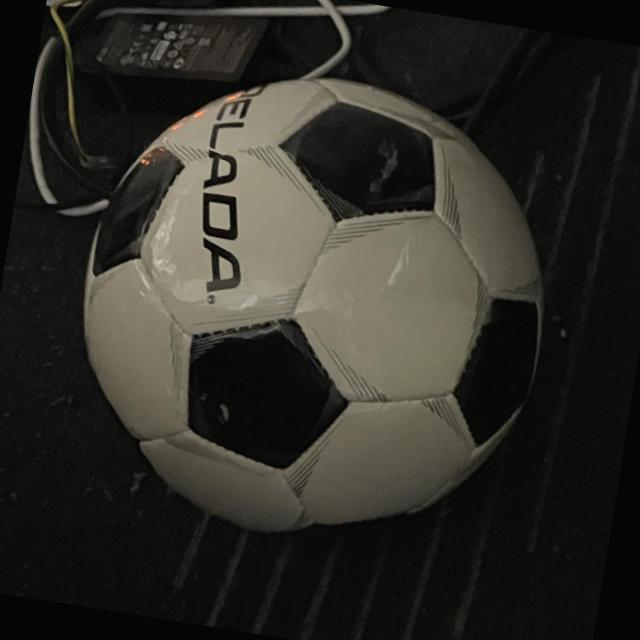Soccer Ball: (47, 44, 581, 572)
